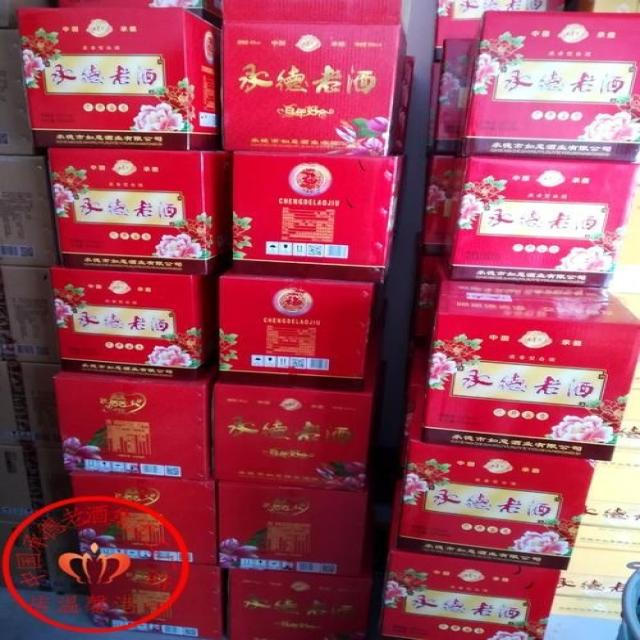box: (420, 284, 640, 460), (397, 387, 596, 569), (221, 0, 408, 156), (18, 7, 220, 151), (457, 10, 640, 161), (444, 157, 636, 288), (45, 148, 230, 275), (232, 153, 404, 285), (219, 273, 374, 392), (51, 268, 210, 381), (54, 370, 214, 481), (212, 383, 372, 493), (383, 550, 562, 640), (215, 481, 366, 576), (70, 473, 218, 566), (83, 556, 224, 639), (228, 568, 372, 640)
